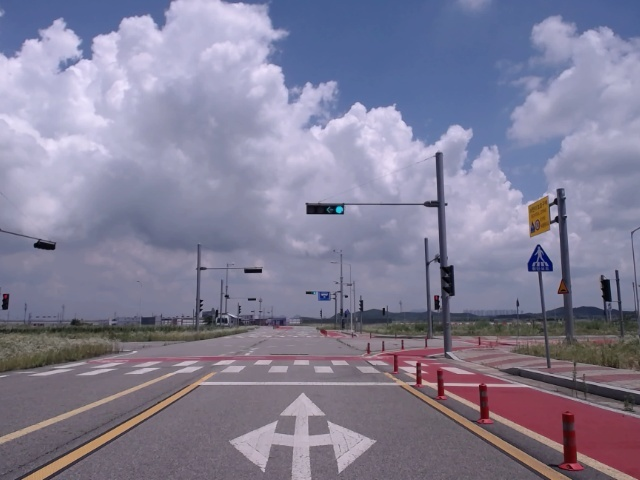all_green_4: (308, 202, 346, 216)
